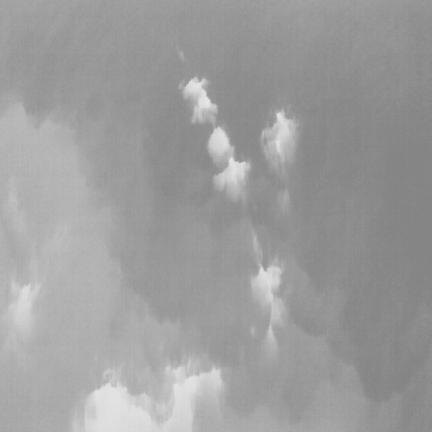flukeprints: (261, 110, 298, 177), (179, 77, 217, 126), (213, 157, 250, 202), (208, 127, 232, 163)
